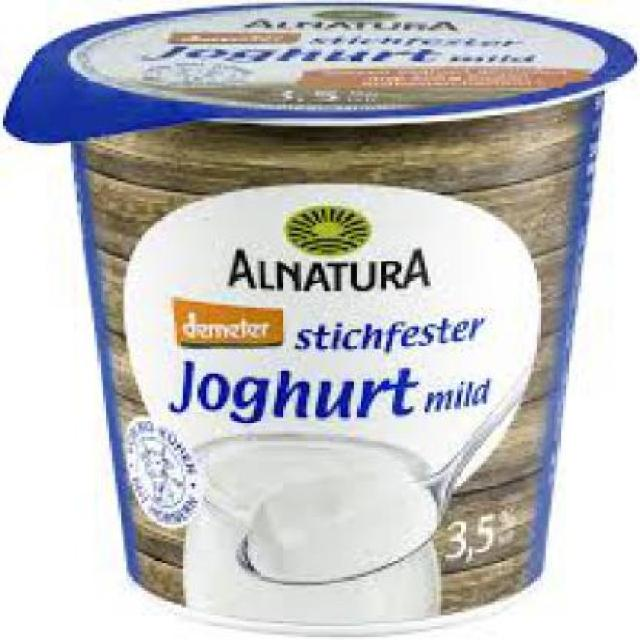PLASTIC: (0, 0, 634, 632)
